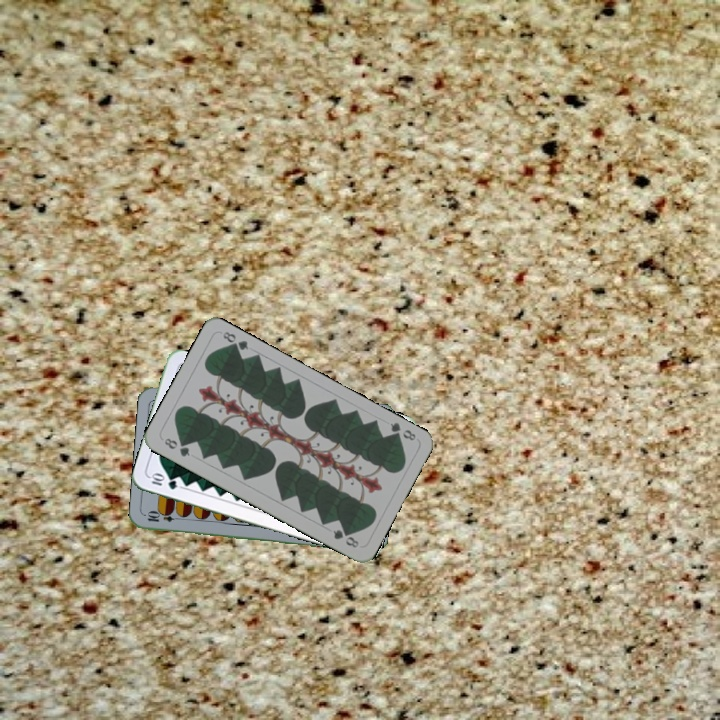E10: (143, 510, 184, 525)
G10: (146, 470, 180, 492)
G8: (160, 434, 192, 459), (386, 418, 418, 443)
